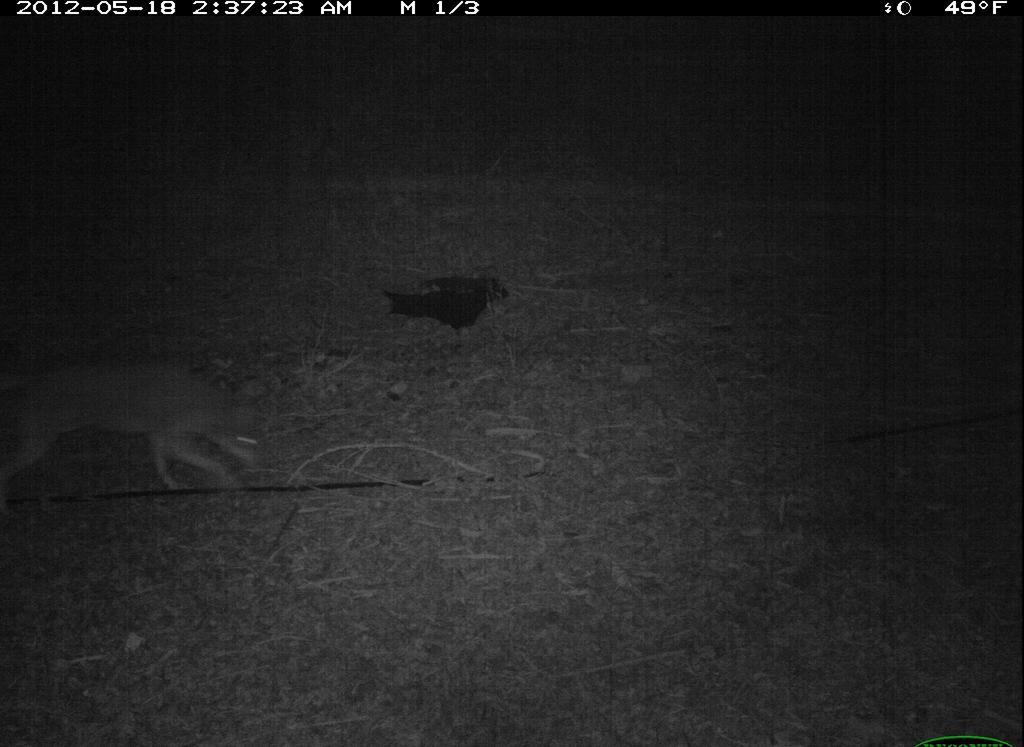coyote: (4, 346, 285, 509)
